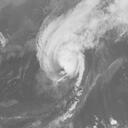cyclone: (37, 19, 86, 80)
